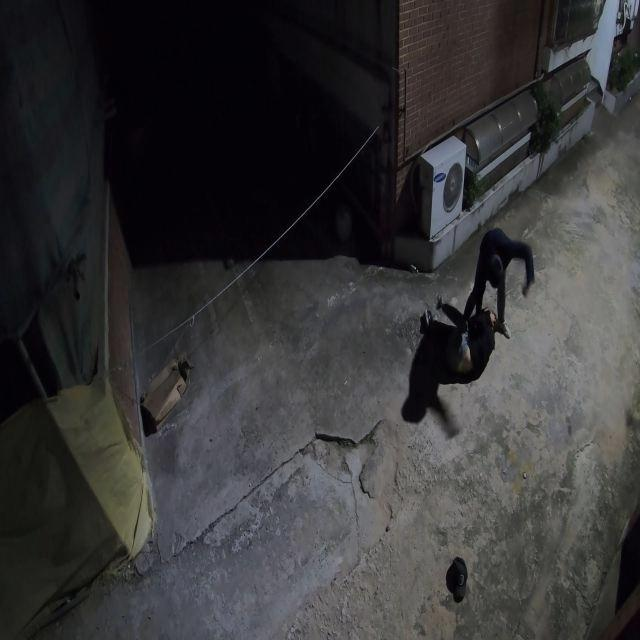fight: (407, 220, 535, 435)
